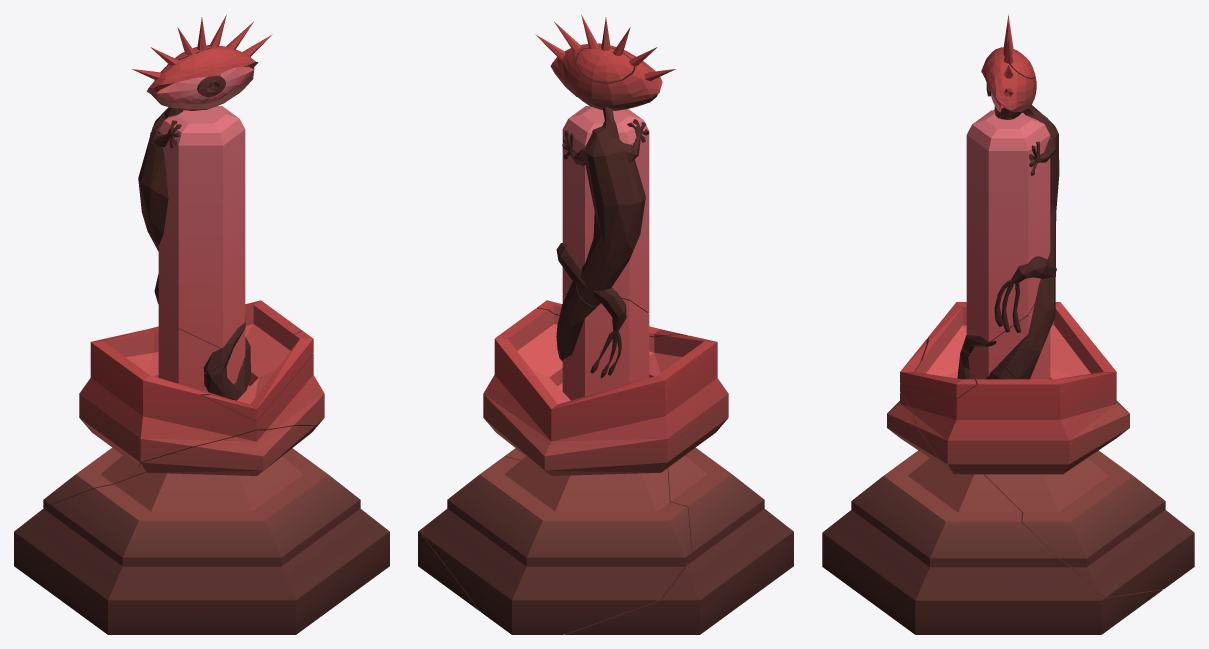
The model's file is MonolitoGuanesFracture.fbx.
3 renders of one model, left to right at view 1: azimuth 30°, elevation 25°; view 2: azimuth 150°, elevation 25°; view 3: azimuth 270°, elevation 25°, orthographic.
Visible parts, largest first — view 1: MonolitoGuanes.001_cell.010, MonolitoGuanes.001_cell.012, MonolitoGuanes.001_cell.018, MonolitoGuanes.001_cell.033, MonolitoGuanes.001_cell, MonolitoGuanes.001_cell.016, MonolitoGuanes.001_cell.023, MonolitoGuanes.001_cell.039, MonolitoGuanes.001_cell.024, MonolitoGuanes.001_cell.035, MonolitoGuanes.001_cell.028; view 2: MonolitoGuanes.001_cell.012, MonolitoGuanes.001_cell.010, MonolitoGuanes.001_cell.033, MonolitoGuanes.001_cell.018, MonolitoGuanes.001_cell, MonolitoGuanes.001_cell.030, MonolitoGuanes.001_cell.042, MonolitoGuanes.001_cell.020, MonolitoGuanes.001_cell.009; view 3: MonolitoGuanes.001_cell.012, MonolitoGuanes.001_cell.010, MonolitoGuanes.001_cell.018, MonolitoGuanes.001_cell.042, MonolitoGuanes.001_cell, MonolitoGuanes.001_cell.016, MonolitoGuanes.001_cell.030, MonolitoGuanes.001_cell.033.
Boxes of the visible parts, box(x1,y1,x2,y2) form: MonolitoGuanes.001_cell.010: box(14, 425, 389, 634); MonolitoGuanes.001_cell.012: box(43, 286, 324, 507); MonolitoGuanes.001_cell.018: box(158, 106, 245, 348); MonolitoGuanes.001_cell.033: box(138, 107, 182, 251); MonolitoGuanes.001_cell: box(146, 46, 258, 93); MonolitoGuanes.001_cell.016: box(204, 331, 313, 420); MonolitoGuanes.001_cell.023: box(156, 74, 221, 104); MonolitoGuanes.001_cell.039: box(204, 361, 250, 400); MonolitoGuanes.001_cell.024: box(202, 66, 253, 103); MonolitoGuanes.001_cell.035: box(203, 315, 245, 372); MonolitoGuanes.001_cell.028: box(164, 67, 254, 110); MonolitoGuanes.001_cell.012: box(421, 294, 728, 634); MonolitoGuanes.001_cell.010: box(418, 419, 793, 634); MonolitoGuanes.001_cell.033: box(576, 106, 645, 306); MonolitoGuanes.001_cell.018: box(562, 106, 649, 313); MonolitoGuanes.001_cell: box(550, 43, 662, 105); MonolitoGuanes.001_cell.030: box(556, 243, 626, 378); MonolitoGuanes.001_cell.042: box(556, 281, 597, 361); MonolitoGuanes.001_cell.020: box(576, 46, 633, 82); MonolitoGuanes.001_cell.009: box(562, 119, 648, 166); MonolitoGuanes.001_cell.012: box(900, 302, 1194, 598); MonolitoGuanes.001_cell.010: box(822, 393, 1161, 634); MonolitoGuanes.001_cell.018: box(966, 110, 1050, 341); MonolitoGuanes.001_cell.042: box(997, 277, 1055, 379); MonolitoGuanes.001_cell: box(981, 47, 1036, 112); MonolitoGuanes.001_cell.016: box(900, 339, 976, 398); MonolitoGuanes.001_cell.030: box(994, 256, 1056, 332); MonolitoGuanes.001_cell.033: box(1023, 105, 1059, 282).
Bounding box in the file's own units: 866 × 1614 × 1000.
